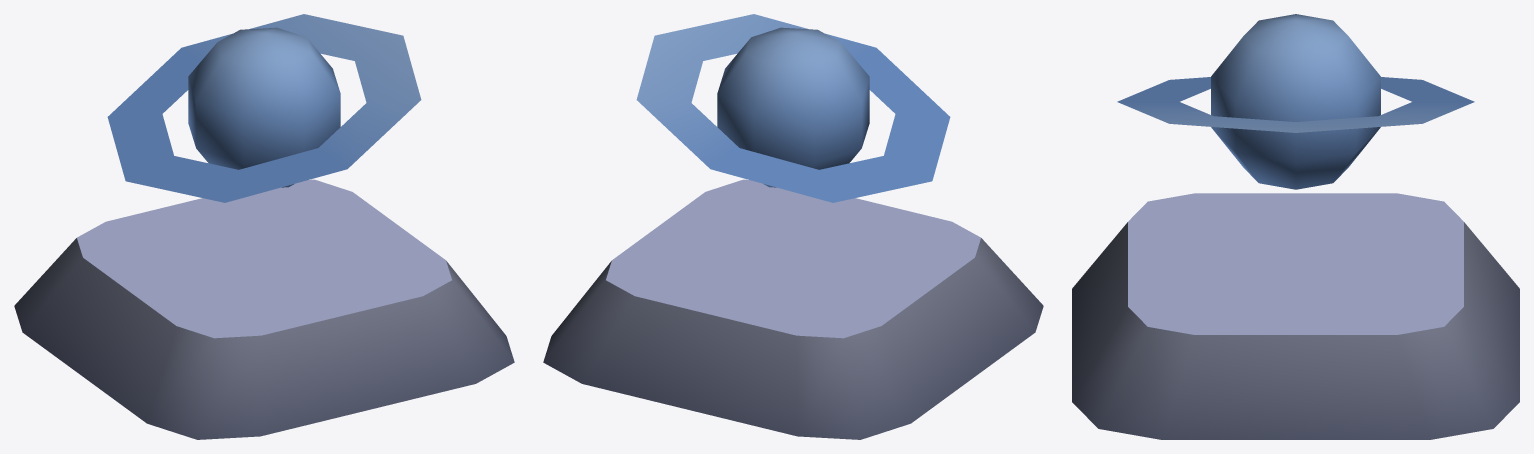
Rendered from table-display-planet.glb.
3 renders of one model, left to right at view 1: azimuth 30°, elevation 25°; view 2: azimuth 150°, elevation 25°; view 3: azimuth 270°, elevation 25°, orthographic. The views are drawn at different scales.
Visible parts, largest first — view 1: table-display-planet; view 2: table-display-planet; view 3: table-display-planet.
Boxes of the visible parts, <box> form: table-display-planet: <box>14,14,514,439</box>; table-display-planet: <box>543,14,1043,439</box>; table-display-planet: <box>1072,14,1519,439</box>.
Bounding box in the file's own units: 0.5 × 0.4 × 0.5.
